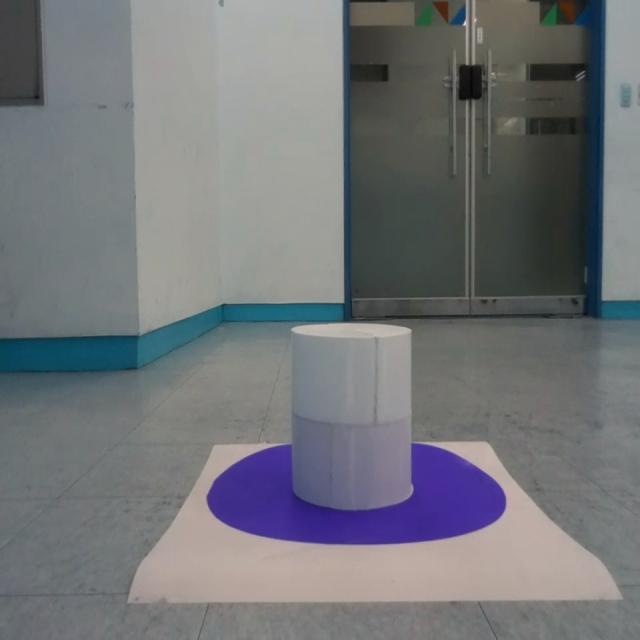cylinder: (292, 320, 413, 512)
